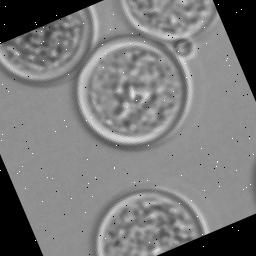picoshell: (77, 38, 184, 144), (95, 187, 210, 256), (0, 8, 93, 82), (122, 0, 215, 40)
